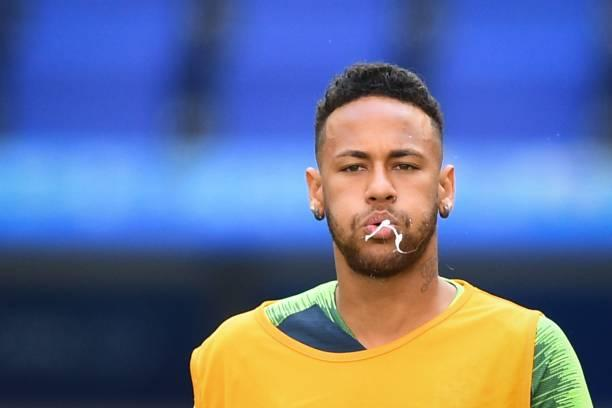Spitting: (283, 61, 492, 283)
